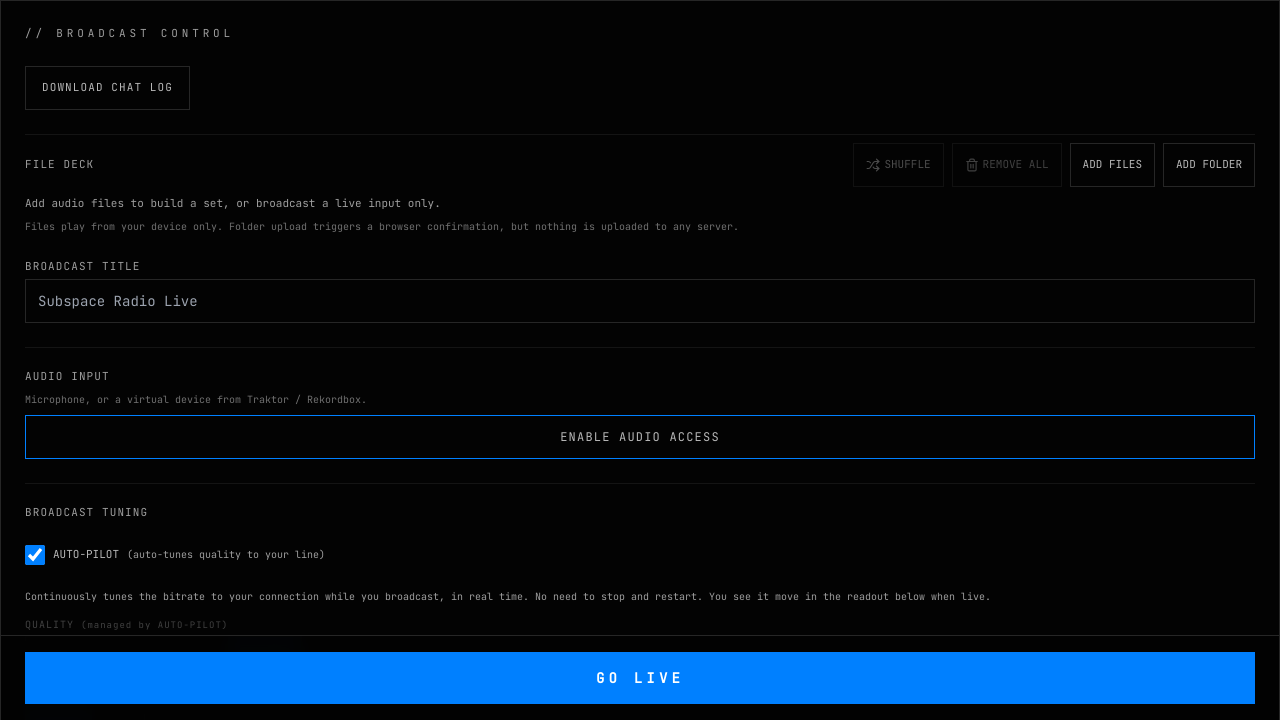
Scenario: GoLivePanel › best-effort ends the broadcast on pagehide (reload/close) while live
Step 1. Click the button with test id "go-live-btn" → (640, 678), box top-left (25, 652), bottom-right (1255, 704)
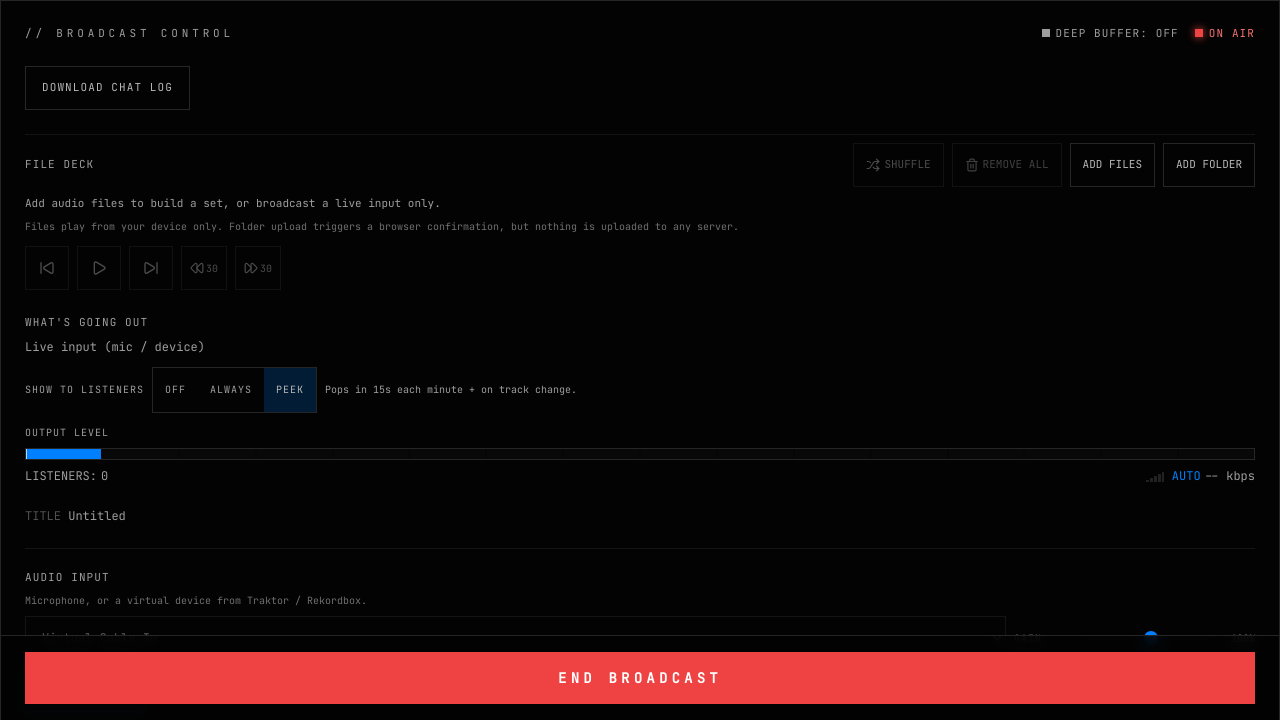
Expected: the button with test id "end-btn" is shown, top-left (25, 652), bottom-right (1255, 704)
